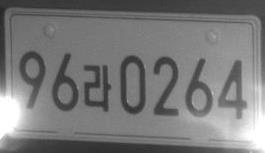0: (119, 54, 146, 115)
2: (152, 55, 179, 117)
4: (217, 59, 247, 119)
6: (184, 57, 213, 118), (51, 52, 79, 112)
9: (18, 50, 45, 110)
라: (83, 64, 111, 112)
